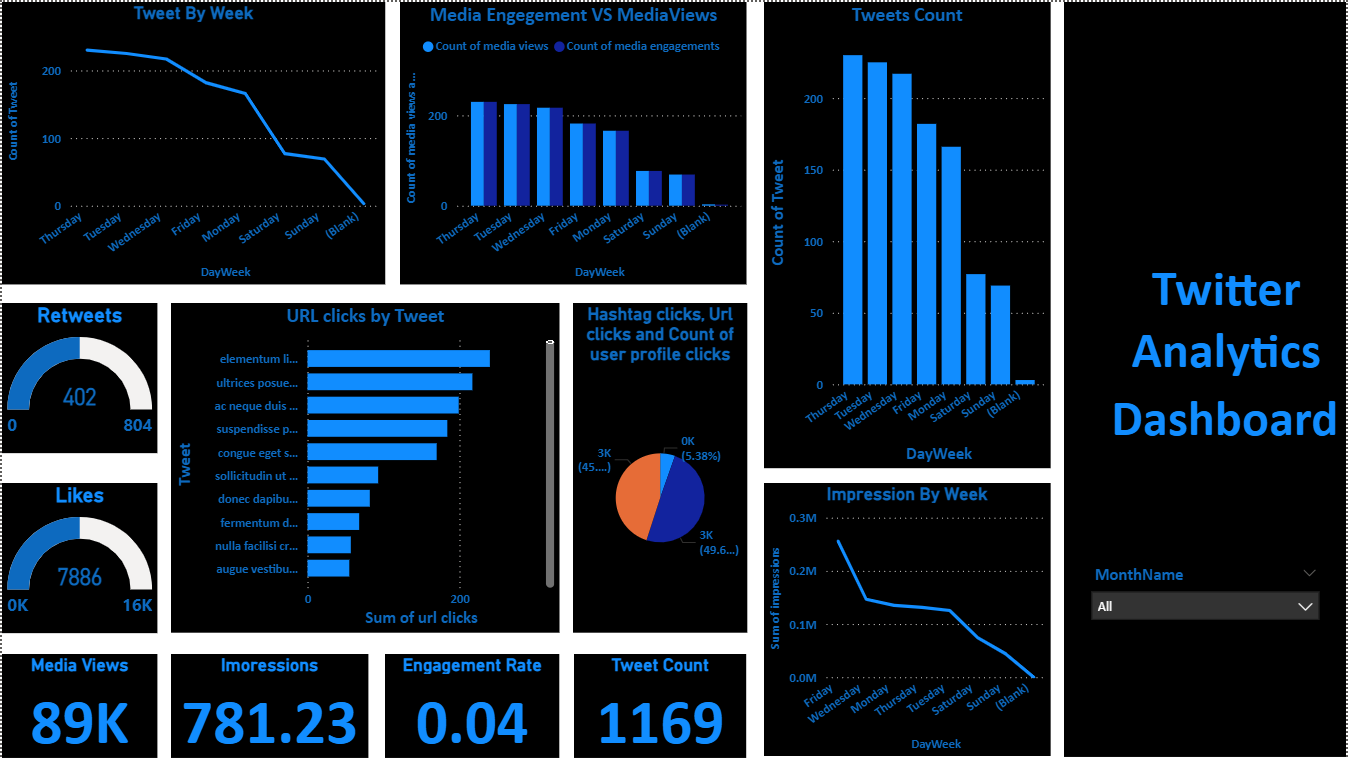

Layout of this report page (visuals, bound fields, positions):
{"tool":"powerbi","page":{"name":"Page 1","canvas":[1280,720],"ordinal":0},"visuals":[{"type":"textbox","box":[1011,0,269,719],"z":0},{"type":"card","title":"Media Views","fields":{"Values":["Sum(SocialMedia (2).media views)"]},"box":[0,621,148,99],"z":1},{"type":"card","title":"Imoressions","fields":{"Values":["Avg(SocialMedia (2).impressions)"]},"box":[160.7,621,187.8,99.3],"z":2},{"type":"card","title":"Engagement Rate","fields":{"Values":["Avg(SocialMedia (2).engagement rate)"]},"box":[364.7,621,166.1,99.3],"z":3},{"type":"card","title":"Tweet Count","fields":{"Values":["CountNonNull(SocialMedia (2).Tweet)"]},"box":[545.2,621,164.3,99.3],"z":4},{"type":"gauge","title":"Likes","fields":{"Y":["Sum(SocialMedia (2).likes)"]},"box":[0,458.6,148,142.6],"z":5},{"type":"gauge","title":"Retweets","fields":{"Y":["Max(SocialMedia (2).retweets)"]},"box":[0,287.1,148,142.6],"z":6},{"type":"lineChart","title":"Tweet By Week","fields":{"Category":["SocialMedia (2).DayWeek"],"Y":["CountNonNull(SocialMedia (2).Tweet)"]},"box":[0,0,364.7,269],"z":7},{"type":"lineChart","title":"Impression By Week","fields":{"Category":["SocialMedia (2).DayWeek"],"Y":["Sum(SocialMedia (2).impressions)"]},"box":[725.8,458.6,272.6,260],"z":8},{"type":"clusteredBarChart","title":"URL clicks by Tweet","fields":{"Category":["SocialMedia (2).Tweet"],"Y":["Sum(SocialMedia (2).url clicks)"]},"box":[160.7,287.1,370.1,314.1],"z":9},{"type":"pieChart","title":"Hashtag clicks, Url clicks and Count of user profile clicks","fields":{"Y":["Sum(SocialMedia (2).hashtag clicks)","Sum(SocialMedia (2).url clicks)","Sum(SocialMedia (2).user profile clicks)"]},"box":[543.4,287.1,166.1,314.1],"z":10},{"type":"clusteredColumnChart","title":"Media Engegement VS MediaViews ","fields":{"Category":["SocialMedia (2).DayWeek"],"Y":["CountNonNull(SocialMedia (2).media views)","CountNonNull(SocialMedia (2).media engagements)"]},"box":[379.1,0,330.4,269],"z":11},{"type":"clusteredColumnChart","title":"Tweets Count","fields":{"Category":["SocialMedia (2).DayWeek"],"Y":["CountNonNull(SocialMedia (2).Tweet)"]},"box":[725.8,0,272.6,444.1],"z":12},{"type":"slicer","title":"Month","fields":{"Values":["SocialMedia (2).MonthName"]},"box":[1027.2,530.8,236.5,90.3],"z":13}]}

Visuals, with their boxes in screenshot pixels (x1, y1, x2, y2), scaled from the page's 1280x720 canvas onto the 1350x758 screenshot:
textbox: {"x1": 1066, "y1": 0, "x2": 1349, "y2": 757}
"Media Views" card: {"x1": 0, "y1": 654, "x2": 156, "y2": 757}
"Imoressions" card: {"x1": 169, "y1": 654, "x2": 368, "y2": 757}
"Engagement Rate" card: {"x1": 385, "y1": 654, "x2": 560, "y2": 757}
"Tweet Count" card: {"x1": 575, "y1": 654, "x2": 748, "y2": 757}
"Likes" gauge: {"x1": 0, "y1": 483, "x2": 156, "y2": 633}
"Retweets" gauge: {"x1": 0, "y1": 302, "x2": 156, "y2": 452}
"Tweet By Week" lineChart: {"x1": 0, "y1": 0, "x2": 385, "y2": 283}
"Impression By Week" lineChart: {"x1": 765, "y1": 483, "x2": 1053, "y2": 757}
"URL clicks by Tweet" clusteredBarChart: {"x1": 169, "y1": 302, "x2": 560, "y2": 633}
"Hashtag clicks, Url clicks and Count of user profile clicks" pieChart: {"x1": 573, "y1": 302, "x2": 748, "y2": 633}
"Media Engegement VS MediaViews " clusteredColumnChart: {"x1": 400, "y1": 0, "x2": 748, "y2": 283}
"Tweets Count" clusteredColumnChart: {"x1": 765, "y1": 0, "x2": 1053, "y2": 468}
"Month" slicer: {"x1": 1083, "y1": 559, "x2": 1333, "y2": 654}
